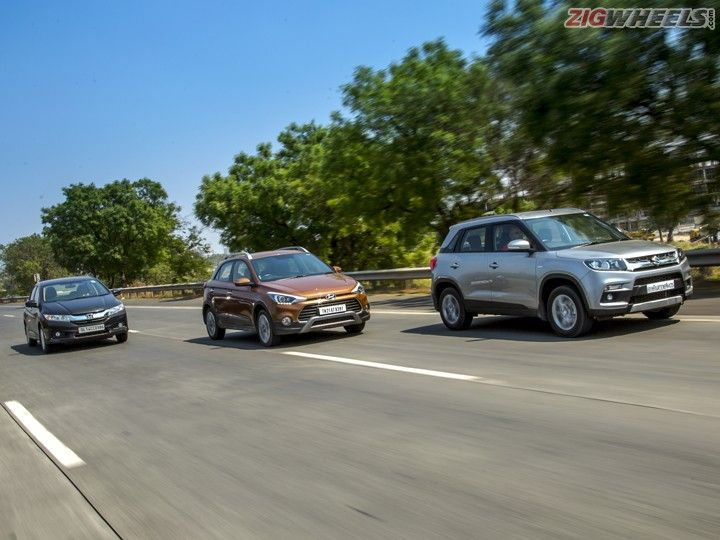car: (419, 198, 708, 350), (186, 237, 374, 354), (18, 269, 136, 355)
